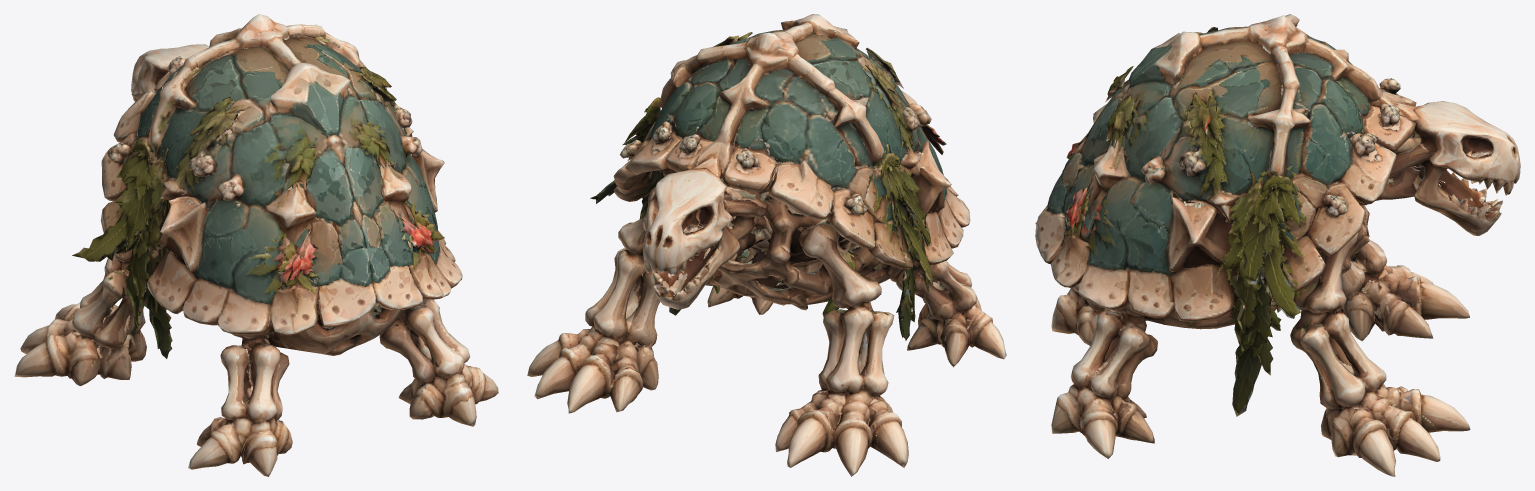
The picture shows the model from 3 angles, left to right: view 1: azimuth 30°, elevation 25°; view 2: azimuth 150°, elevation 25°; view 3: azimuth 270°, elevation 25°; orthographic projection. The views are drawn at different scales.
Visible parts, largest first — view 1: surface_7; view 2: surface_7; view 3: surface_7.
Boxes of the visible parts, bbox=[...] form: surface_7: bbox=[14, 14, 498, 476]; surface_7: bbox=[527, 14, 1006, 476]; surface_7: bbox=[1035, 14, 1520, 476].
Size of the model in its own units: 0.9428 by 0.8361 by 1.
Materials: 1 (1 with a texture image).
